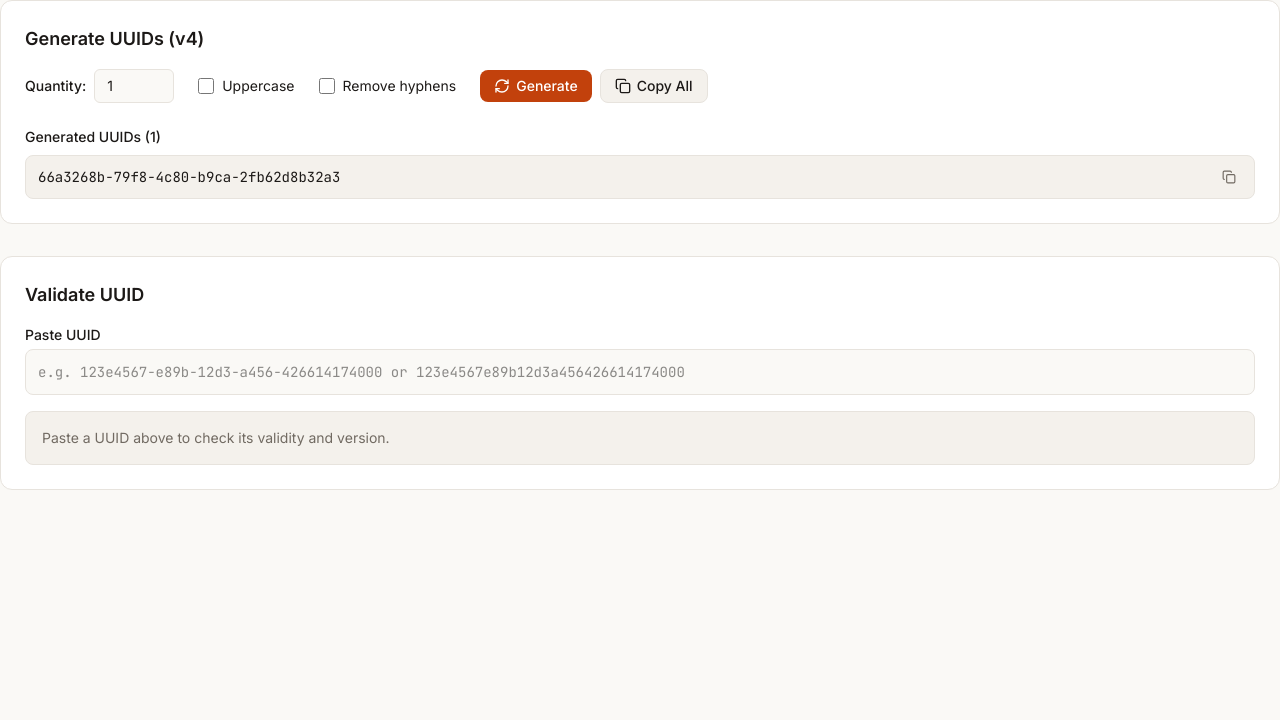
Scenario: UuidGenerator Component › validates a valid UUID and displays version information
Replace the text in the field labelled "Paste UUID" with "f47ac10b-58cc-4372-a567-0e02b2c3d479" at (640, 372), box [25, 349, 1255, 395]
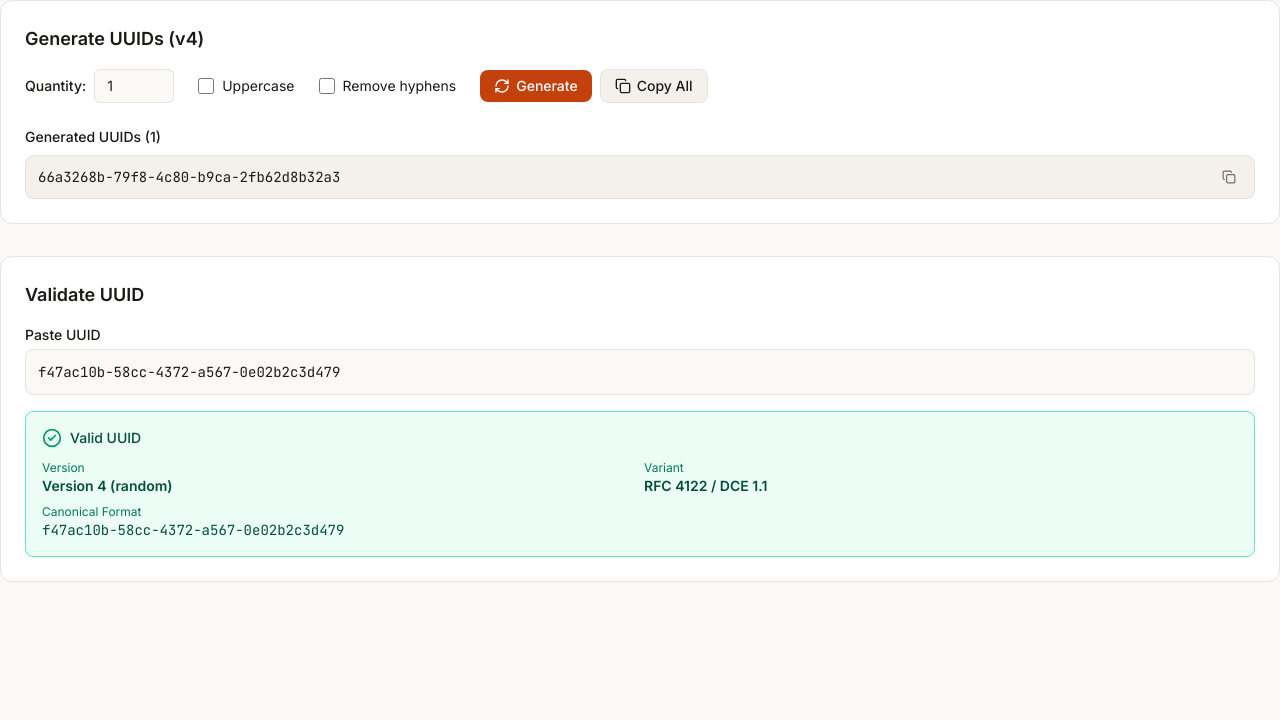
Check: the text "Valid UUID" is shown, box [42, 428, 141, 448]
Check: the text "Version 4 (random)" is shown, box [42, 477, 173, 494]
Check: the text "RFC 4122 / DCE 1.1" is shown, box [644, 477, 767, 494]
